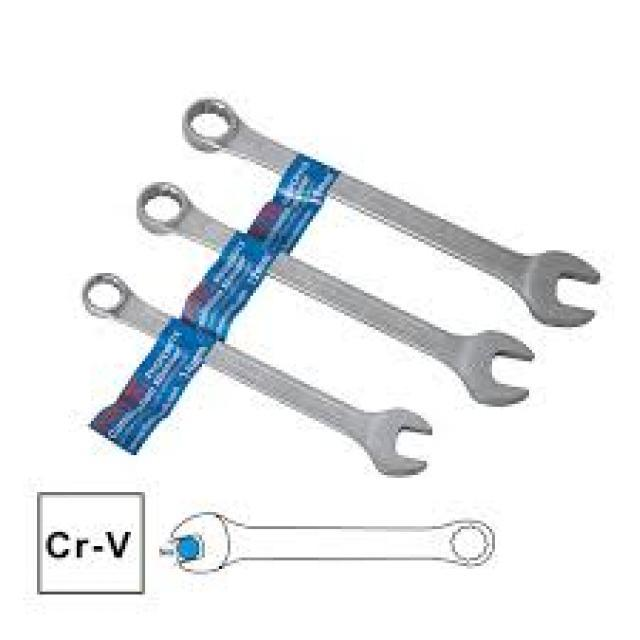wrench: (180, 92, 604, 335), (132, 172, 540, 420), (78, 265, 430, 477)
